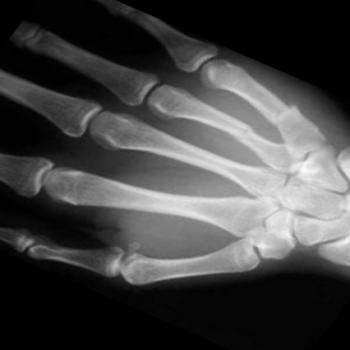Fracture: (265, 97, 309, 123), (228, 120, 258, 144)
